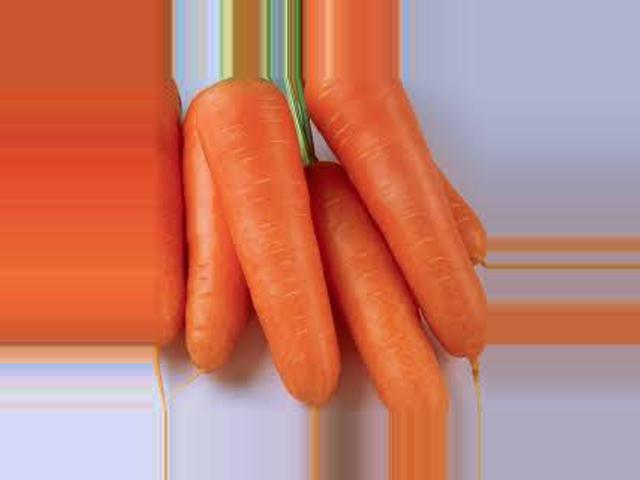carrot: (161, 89, 244, 380)
